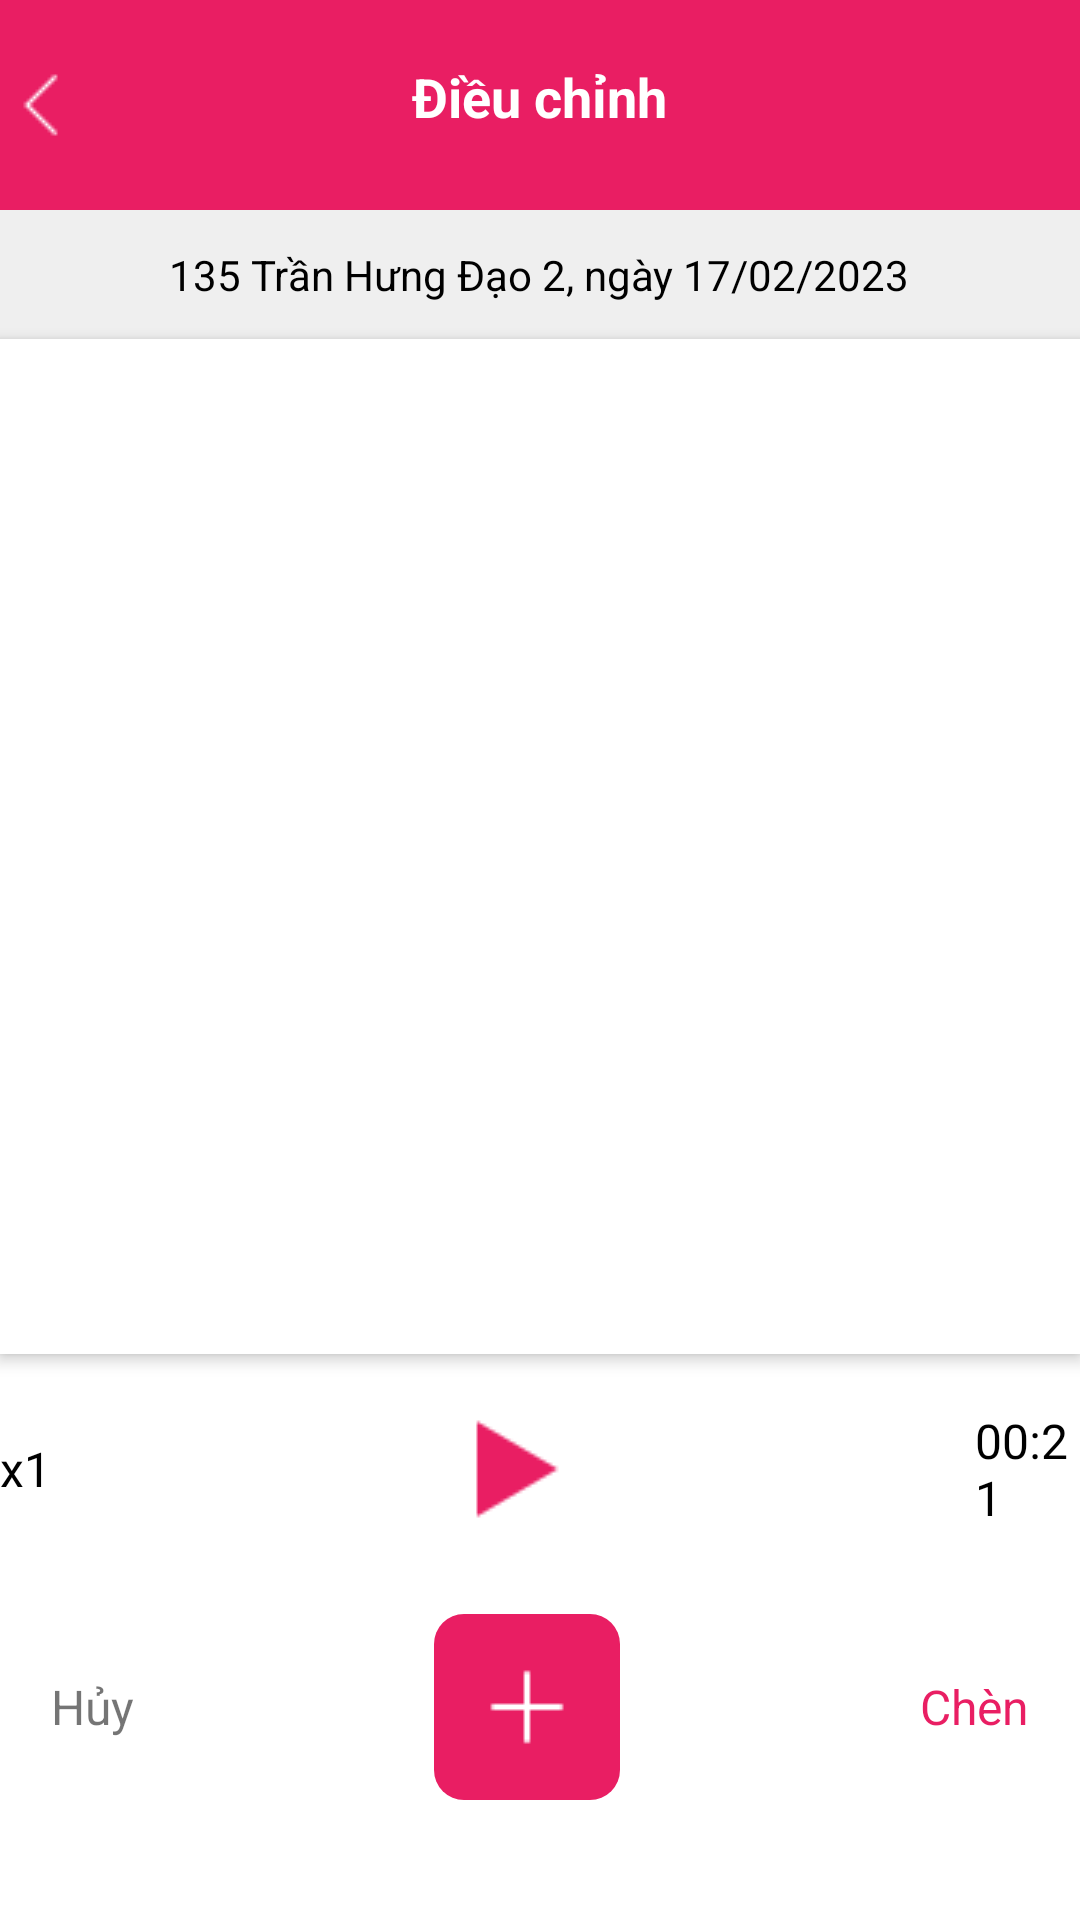

Point at icon controls on the screen. Image size 1080px x 1920px, points as point (x, y).
arrow left adjust: point (40, 105)
play: point (517, 1469)
